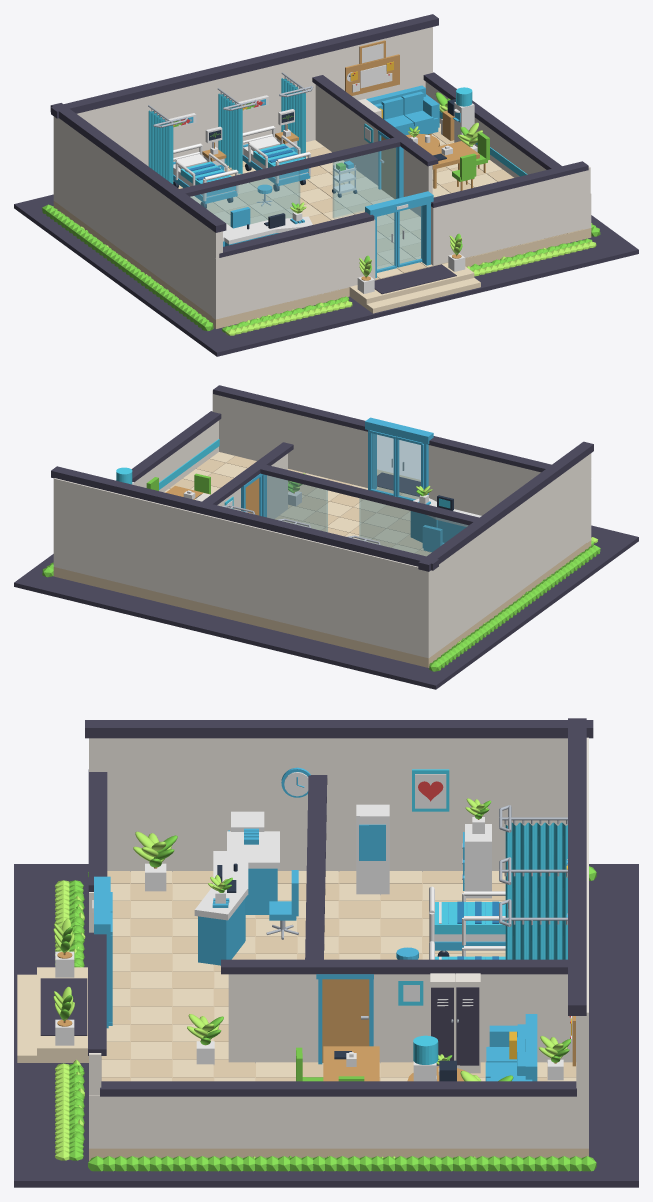
The model's file is hospital.glb.
3 renders of one model, top to bottom at view 1: azimuth 30°, elevation 25°; view 2: azimuth 150°, elevation 25°; view 3: azimuth 270°, elevation 25°, orthographic. The views are drawn at different scales.
Visible parts, largest first — view 1: Hospital_Wall, Hospital_Trim, Hospital_Floor, Hospital_FloorAlt, Hospital_White, Hospital_Glass, Hospital_MedicalBlue, Hospital_CurtainCyan, Hospital_PlantGreen, Hospital_Wood, Hospital_LeafLight, Hospital_Trim.002 (+5 smaller); view 2: Hospital_Wall, Hospital_Trim, Hospital_Floor, Hospital_Glass, Hospital_FloorAlt, Hospital_MedicalBlue, Hospital_PlantGreen, Hospital_Trim.002, GlassDoor.001, GlassDoor, Hospital_CurtainCyan, Hospital_Wood (+1 smaller); view 3: Hospital_Wall, Hospital_Trim, Hospital_Floor, Hospital_FloorAlt, Hospital_White, Hospital_PlantGreen, Hospital_MedicalBlue, Hospital_CurtainCyan, Hospital_Wood, Hospital_LeafLight, Hospital_Trim.002, Hospital_Metal (+2 smaller).
Boxes of the visible parts, left/top/right/bottom form: Hospital_Wall: left=53, top=27, right=591, bottom=319; Hospital_Trim: left=14, top=14, right=638, bottom=356; Hospital_Floor: left=53, top=132, right=591, bottom=328; Hospital_FloorAlt: left=173, top=123, right=583, bottom=313; Hospital_White: left=165, top=43, right=477, bottom=293; Hospital_Glass: left=191, top=147, right=396, bottom=225; Hospital_MedicalBlue: left=173, top=85, right=460, bottom=277; Hospital_CurtainCyan: left=148, top=78, right=527, bottom=184; Hospital_PlantGreen: left=42, top=92, right=600, bottom=332; Hospital_Wood: left=202, top=40, right=485, bottom=280; Hospital_LeafLight: left=62, top=103, right=596, bottom=335; Hospital_Trim.002: left=179, top=136, right=403, bottom=196; Hospital_Wall: left=53, top=390, right=591, bottom=658; Hospital_Trim: left=14, top=385, right=638, bottom=689; Hospital_Floor: left=53, top=456, right=591, bottom=667; Hospital_Glass: left=263, top=474, right=468, bottom=555; Hospital_FloorAlt: left=164, top=452, right=431, bottom=553; Hospital_MedicalBlue: left=241, top=417, right=466, bottom=551; Hospital_PlantGreen: left=42, top=473, right=600, bottom=671; Hospital_Trim.002: left=257, top=464, right=478, bottom=525; GlassDoor.001: left=371, top=433, right=393, bottom=494; GlassDoor: left=398, top=440, right=420, bottom=499; Hospital_CurtainCyan: left=116, top=439, right=450, bottom=508; Hospital_Wood: left=166, top=478, right=424, bottom=515; Hospital_Wall: left=89, top=737, right=588, bottom=1148; Hospital_Trim: left=14, top=718, right=638, bottom=1187; Hospital_Floor: left=89, top=871, right=588, bottom=1160; Hospital_FloorAlt: left=17, top=871, right=576, bottom=1081; Hospital_White: left=55, top=772, right=571, bottom=1081; Hospital_PlantGreen: left=60, top=800, right=596, bottom=1171; Hospital_MedicalBlue: left=94, top=767, right=567, bottom=1081; Hospital_CurtainCyan: left=412, top=769, right=567, bottom=1064; Hospital_Wood: left=57, top=819, right=575, bottom=1081; Hospital_LeafLight: left=53, top=798, right=567, bottom=1160; Hospital_Trim.002: left=305, top=775, right=327, bottom=962; Hospital_Metal: left=266, top=805, right=567, bottom=1022.
Size of what is drawn, in the model's own units: 18 by 4.48 by 15.
